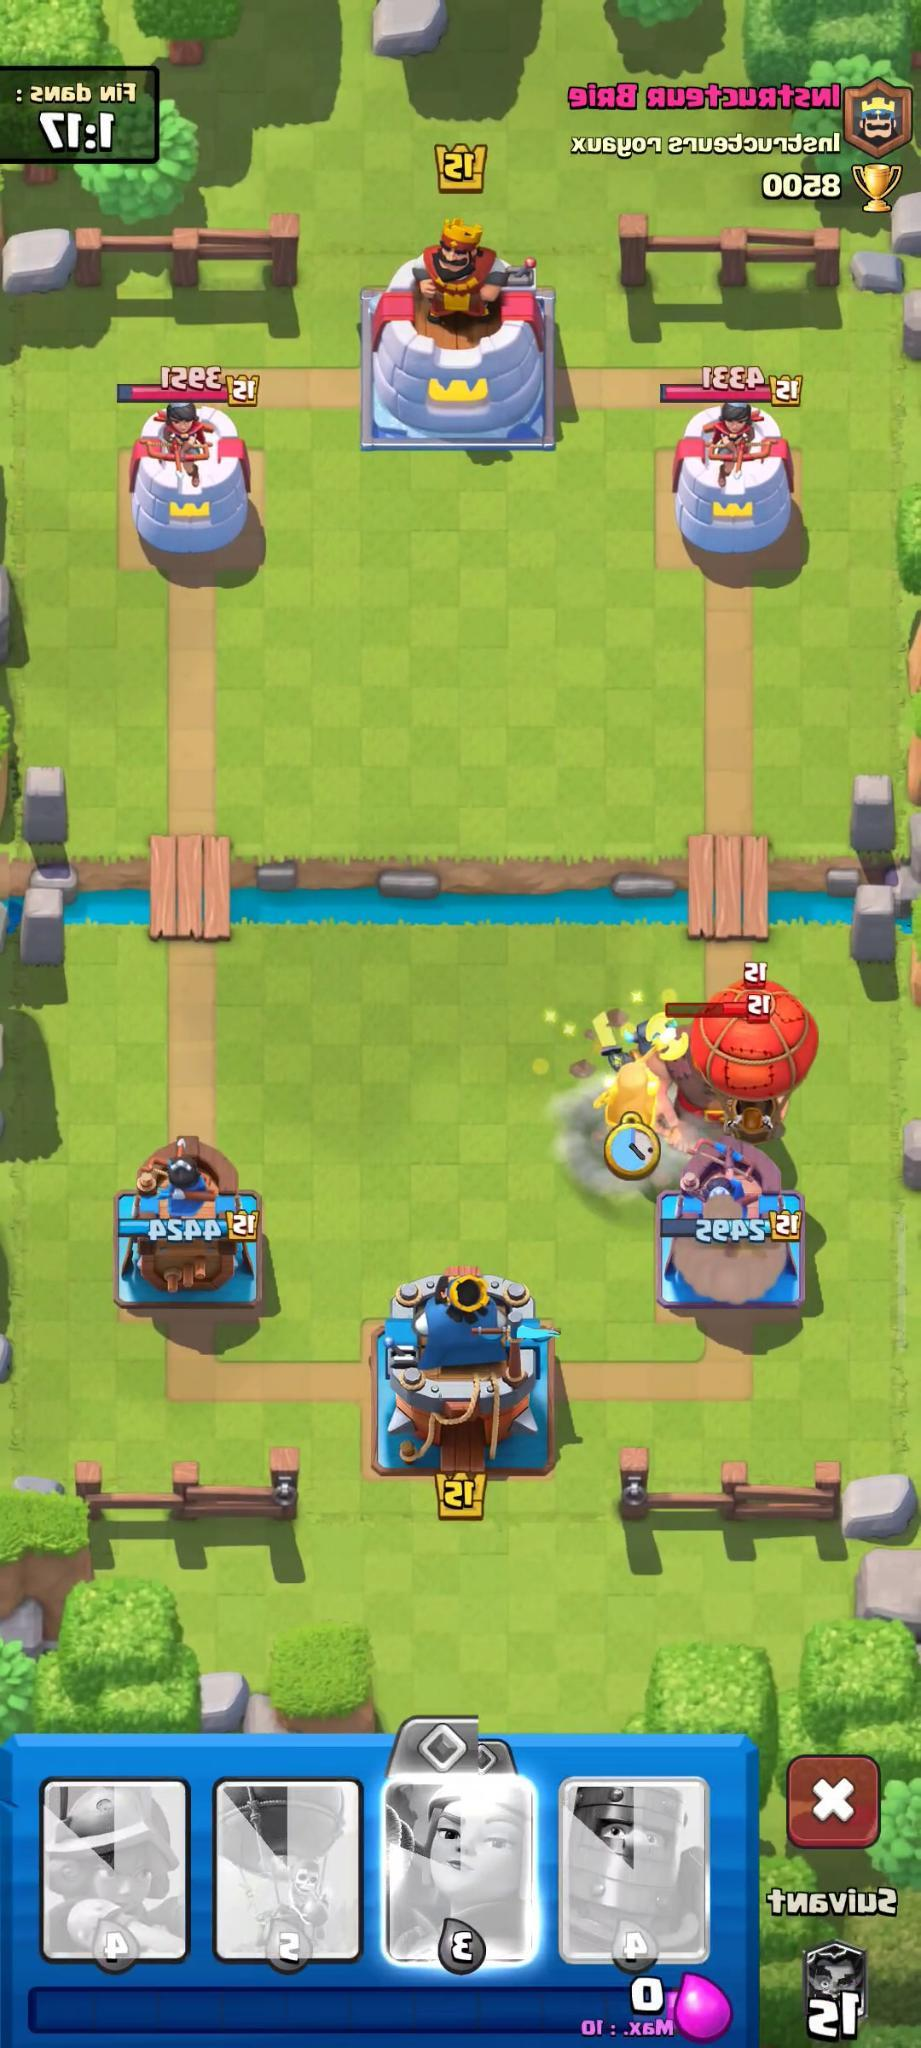enemy_archers: (638, 1008, 692, 1076), (593, 1015, 651, 1078)
enemy_ballon: (690, 947, 826, 1170)
